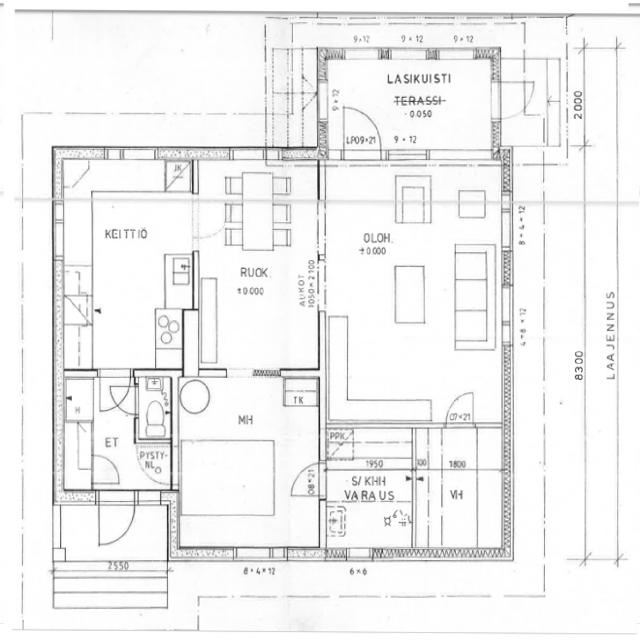door: (98, 490, 134, 547), (344, 107, 381, 160), (491, 82, 533, 119), (100, 369, 130, 414), (290, 464, 326, 496), (447, 392, 474, 428), (109, 387, 139, 415), (91, 456, 118, 484)
